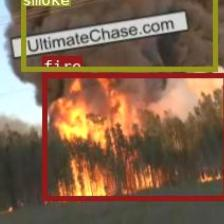fire: (42, 73, 224, 200)
smoke: (20, 0, 216, 70)
